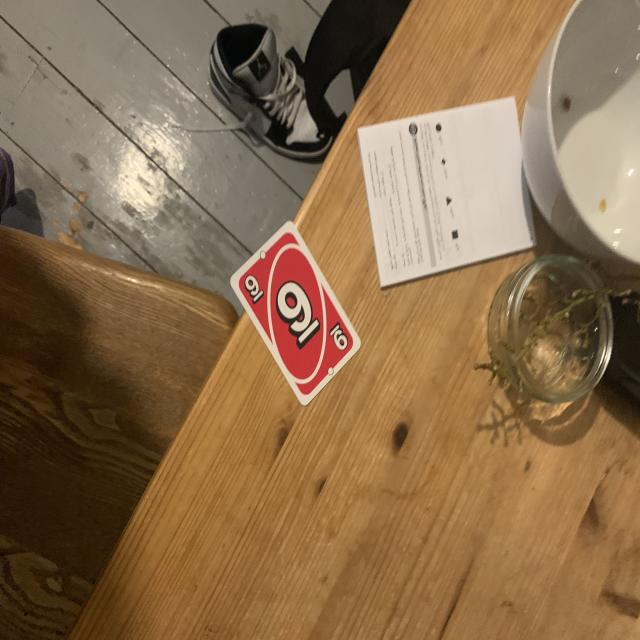lred-9: (243, 270, 266, 304)
